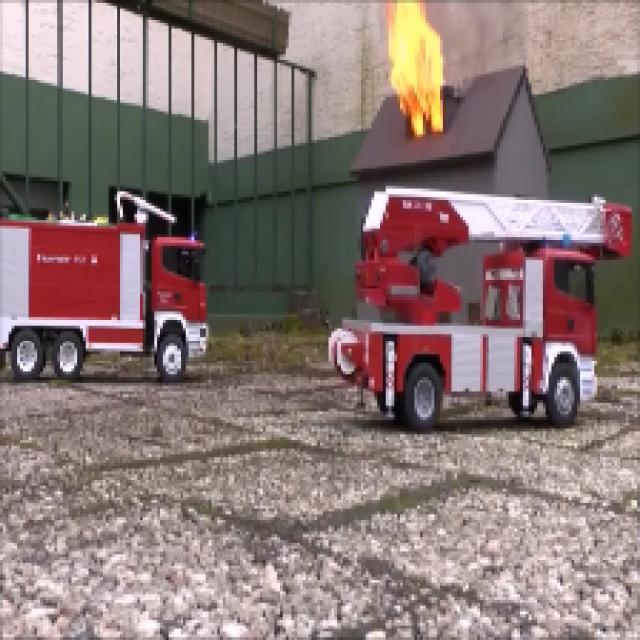Fire: (381, 0, 460, 135)
